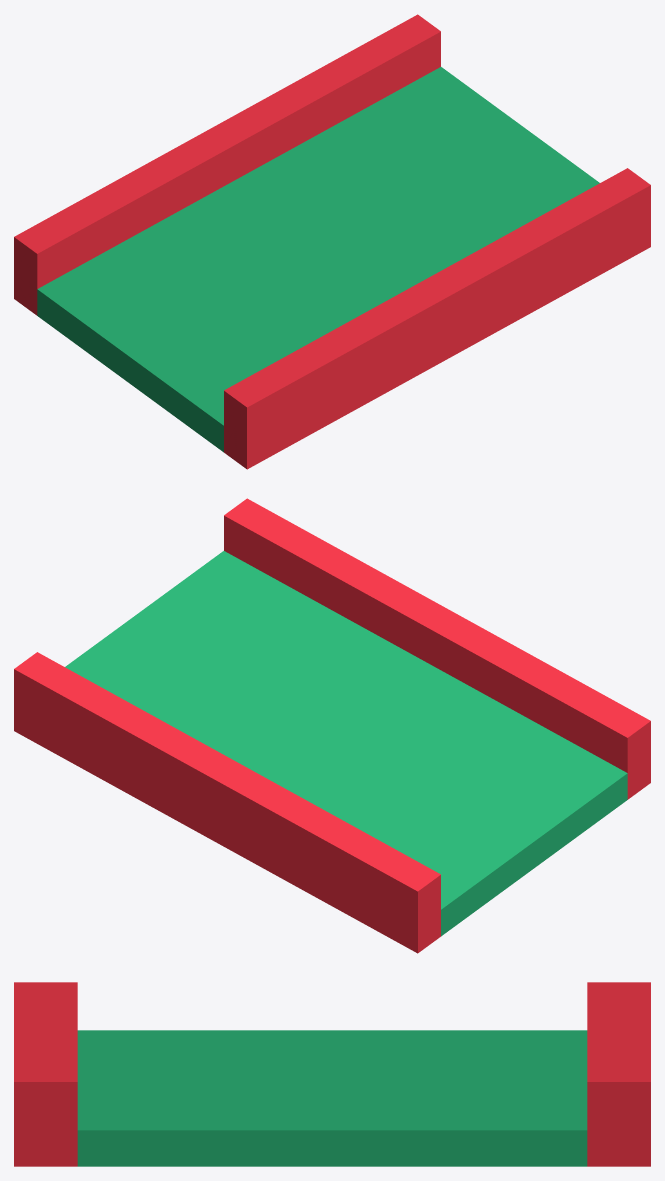
Rendered from rampB.obj.
3 renders of one model, top to bottom at view 1: azimuth 30°, elevation 25°; view 2: azimuth 150°, elevation 25°; view 3: azimuth 270°, elevation 25°, orthographic. The views are drawn at different scales.
Parts seen in each view (by area): view 1: rampB; view 2: rampB; view 3: rampB.
Boxes of the visible parts, x1,y1,x2,y2 form: rampB: (14,14,650,469); rampB: (14,498,650,953); rampB: (14,982,650,1166).
Size of the model in its own units: 0.9999 by 0.44 by 0.9999.
